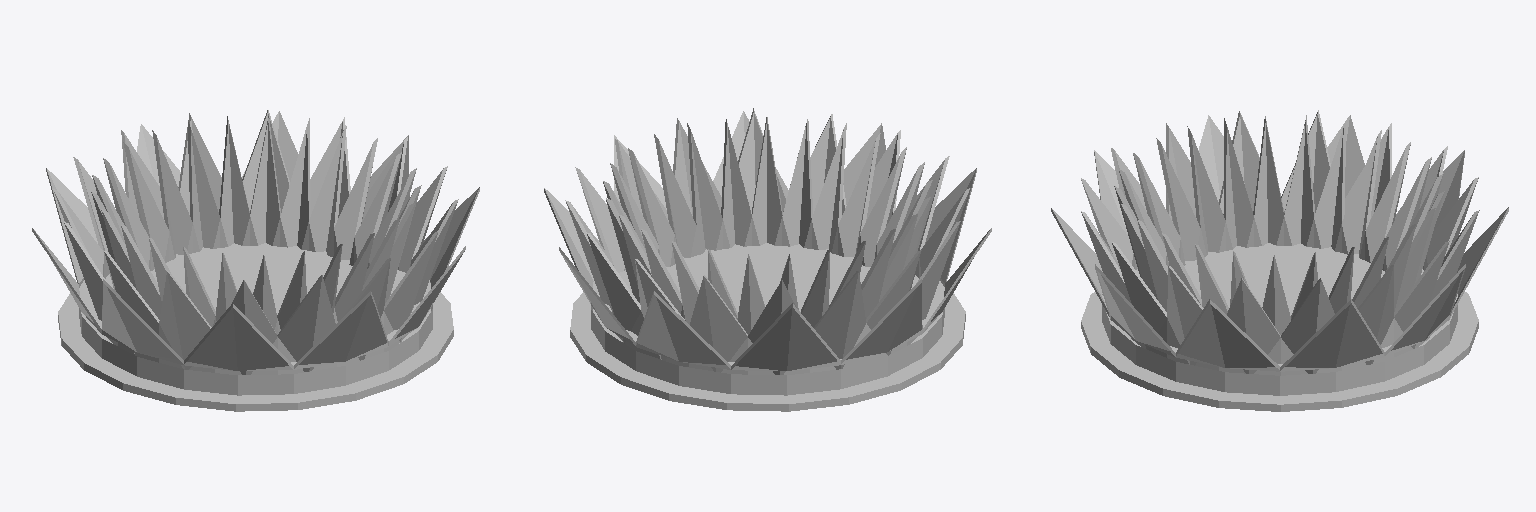
File: portal_abrir_000025.obj
3 renders of one model, left to right at view 1: azimuth 30°, elevation 25°; view 2: azimuth 150°, elevation 25°; view 3: azimuth 270°, elevation 25°, orthographic.
Parts seen in each view (by area): view 1: pCylinder1, Cylinder.001, Cylinder; view 2: pCylinder1, Cylinder.001, Cylinder; view 3: pCylinder1, Cylinder.001, Cylinder.
Part boxes in pixels (x1,y1,x2,y2): pCylinder1: (32,111,479,411); Cylinder.001: (91,116,421,334); Cylinder: (53,110,458,374); pCylinder1: (544,111,991,411); Cylinder.001: (603,117,932,334); Cylinder: (565,108,970,374); pCylinder1: (1051,115,1508,411); Cylinder.001: (1114,115,1444,334); Cylinder: (1081,110,1479,375).
Bounding box in the file's own units: 4.53 × 1.65 × 4.76.